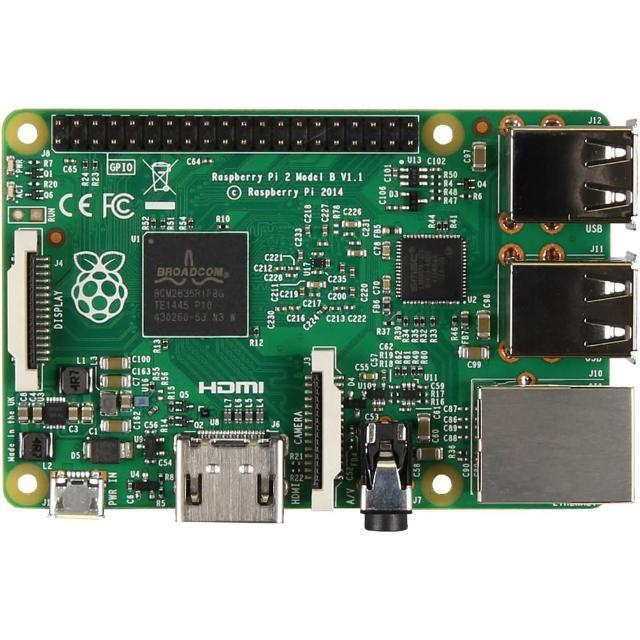Raspberry-Pi-2-B: (1, 111, 634, 532)
